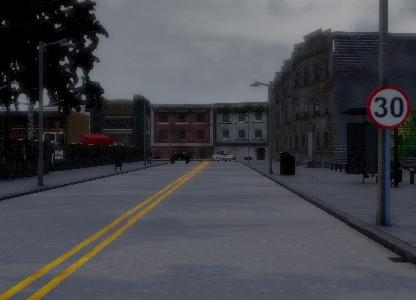Speed_30: (368, 84, 411, 129)
